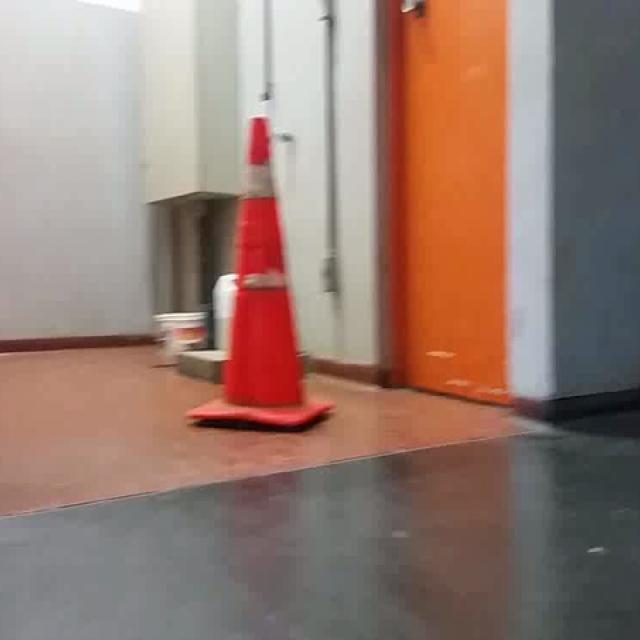cone: (184, 117, 332, 428)
